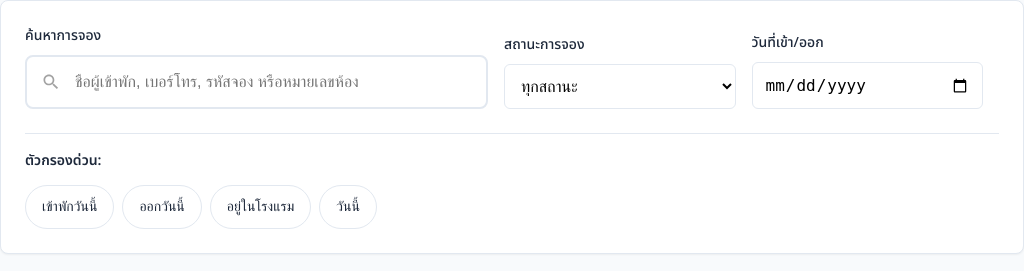
BookingSearch Component › Search Input › shows clear button when search has text
Type "test" into the field labelled "ค้นหาการจอง" at (256, 82), box [25,55,488,109]
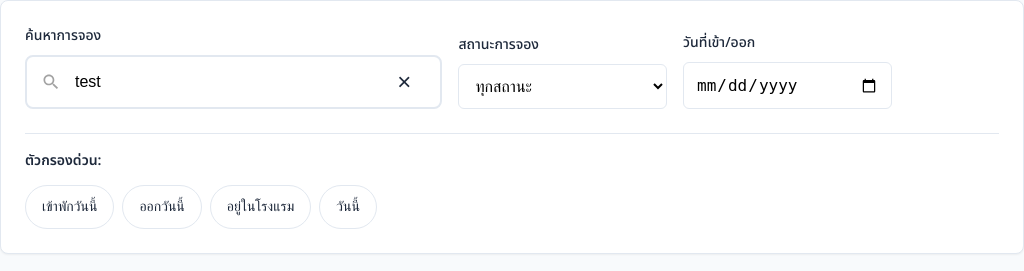
expect the button named "ล้างคำค้นหา" is shown: met, box [382,60,426,104]
